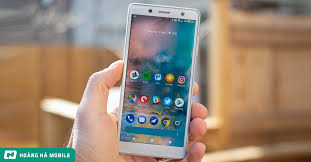sony: (111, 2, 205, 162)
